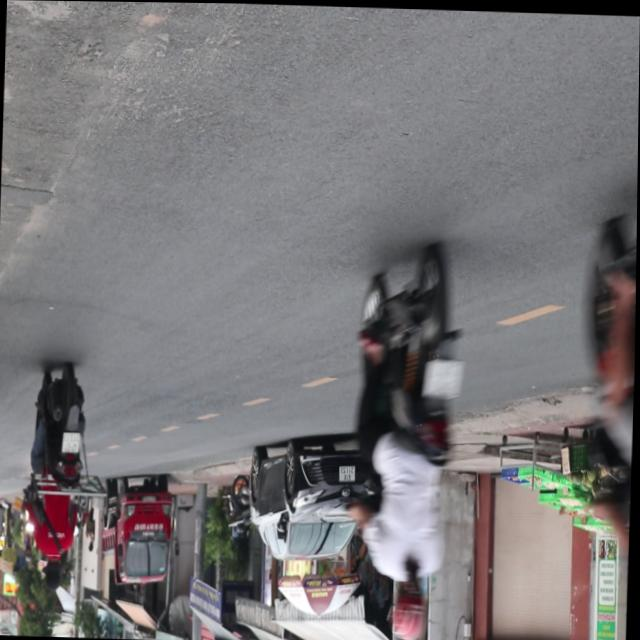helmet: (393, 574, 430, 640)
licenseplate: (343, 240, 470, 640), (573, 166, 638, 640), (25, 362, 92, 593)
motorcyclist: (43, 555, 65, 591)
nohelmet: (422, 358, 464, 396), (63, 432, 81, 452)
